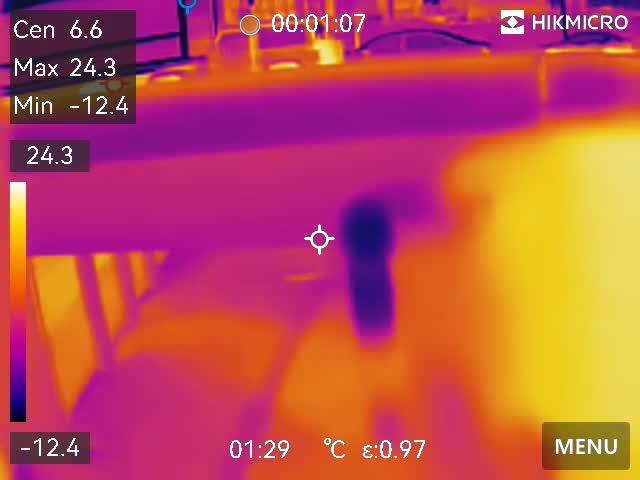largeCar: (137, 24, 348, 81)
smallCar: (351, 24, 491, 77)
